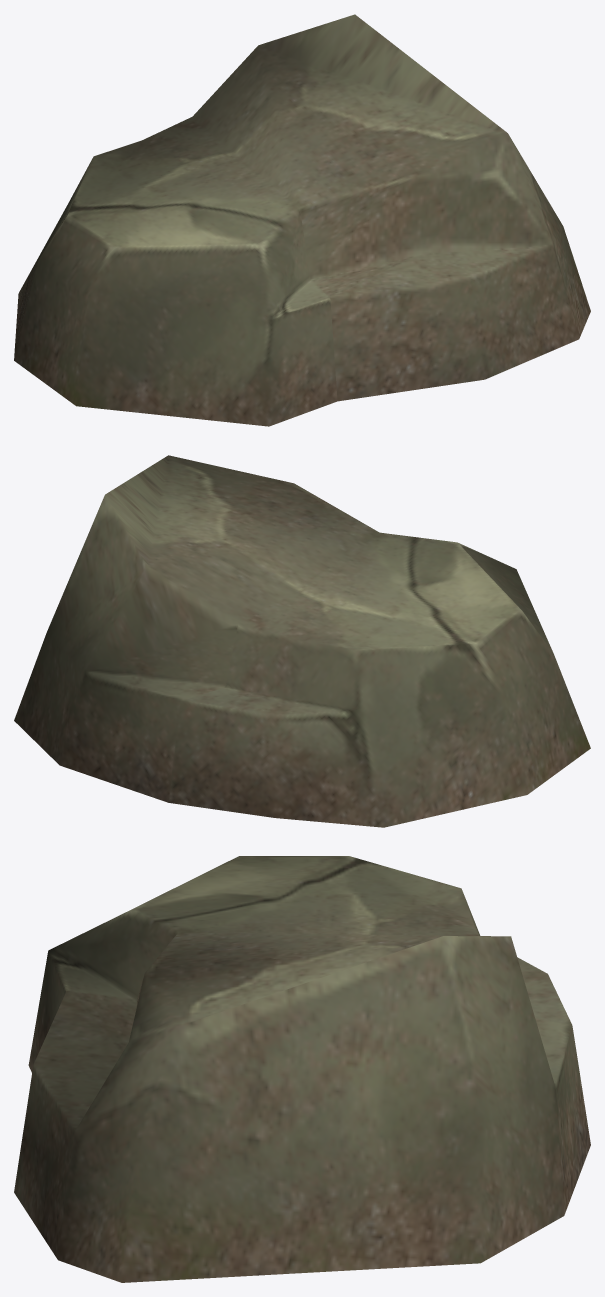
Rendered from ROK0110020.fbx.
3 views of the same model, one above another, from view 1: azimuth 30°, elevation 25°; view 2: azimuth 150°, elevation 25°; view 3: azimuth 270°, elevation 25° (orthographic). The views are drawn at different scales.
Parts seen in each view (by area): view 1: smROK0110020; view 2: smROK0110020; view 3: smROK0110020.
Part boxes in pixels (x1,y1,x2,y2): smROK0110020: (14,14,590,426); smROK0110020: (14,455,590,827); smROK0110020: (14,856,590,1282).
Size of the model in its own units: 199 by 89.71 by 166.
Materials: 1 (1 with a texture image).
